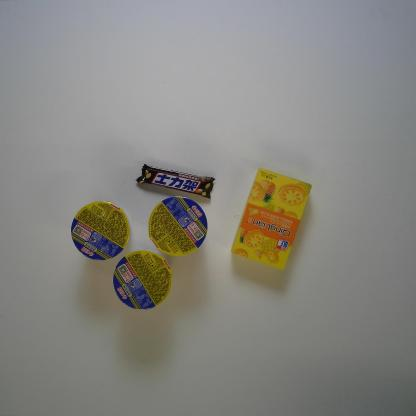Chocolate: (135, 162, 218, 199)
Dessert: (230, 166, 313, 273)
Instant Noodles: (110, 248, 175, 312), (148, 194, 210, 258), (70, 198, 130, 263)
